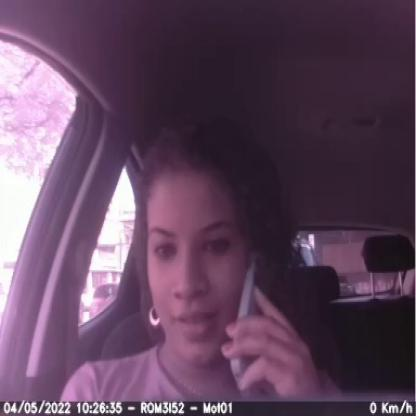phone: (217, 250, 285, 390)
